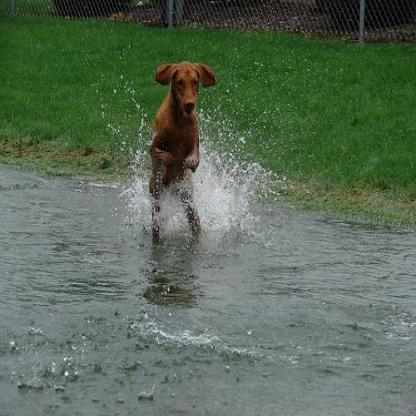vizsla: (146, 59, 217, 246)
